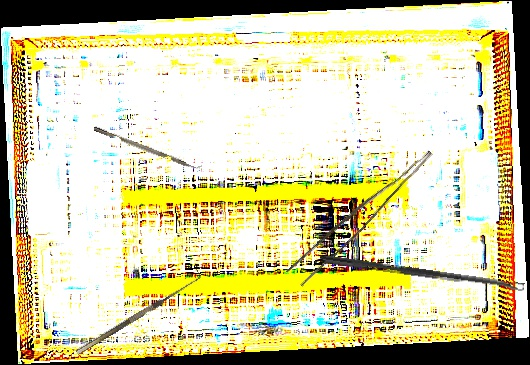Chopper: (93, 121, 203, 173)
Hook Surgical: (71, 268, 204, 356)
Surgical Spoon: (319, 254, 525, 293)
Tissue Forceps: (286, 135, 433, 291)
